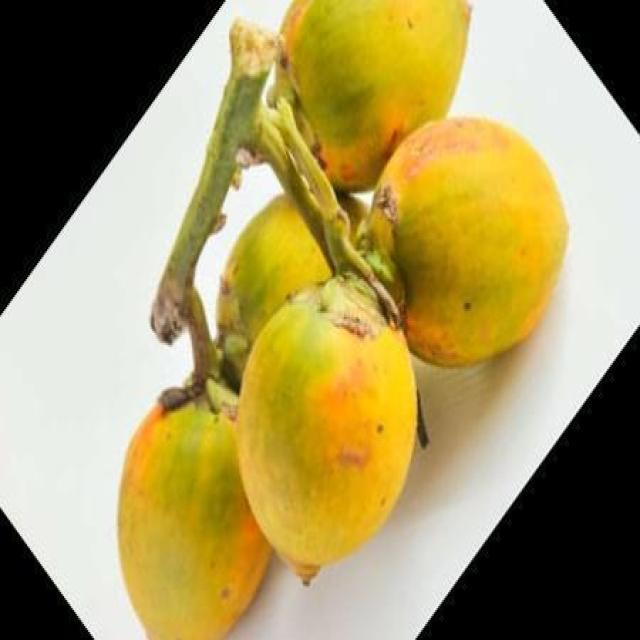good: (236, 0, 570, 369), (236, 269, 421, 586), (117, 395, 272, 638), (218, 197, 331, 397)
